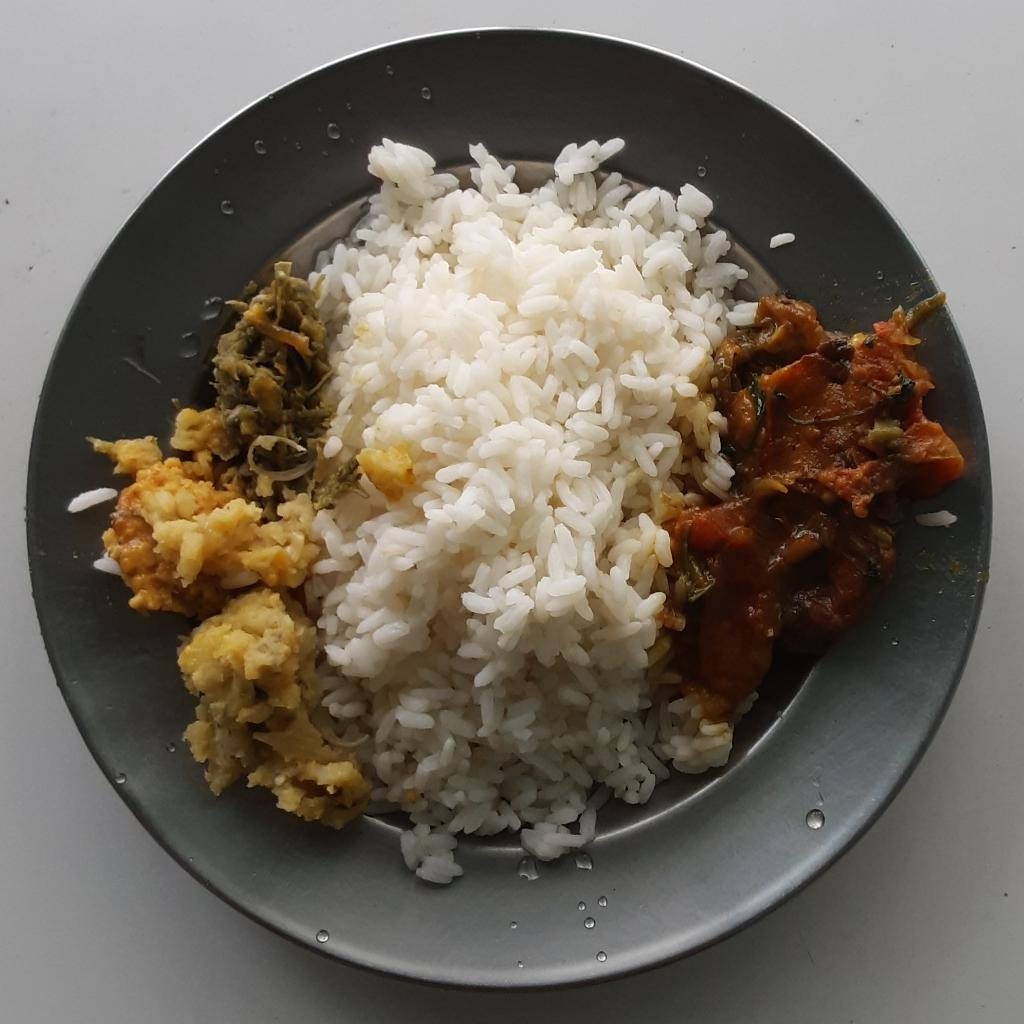daal: (87, 398, 244, 609)
fish: (667, 281, 964, 724)
potato: (170, 584, 367, 828), (146, 478, 314, 590)
rice: (302, 129, 757, 885)
shim: (209, 263, 337, 471)
